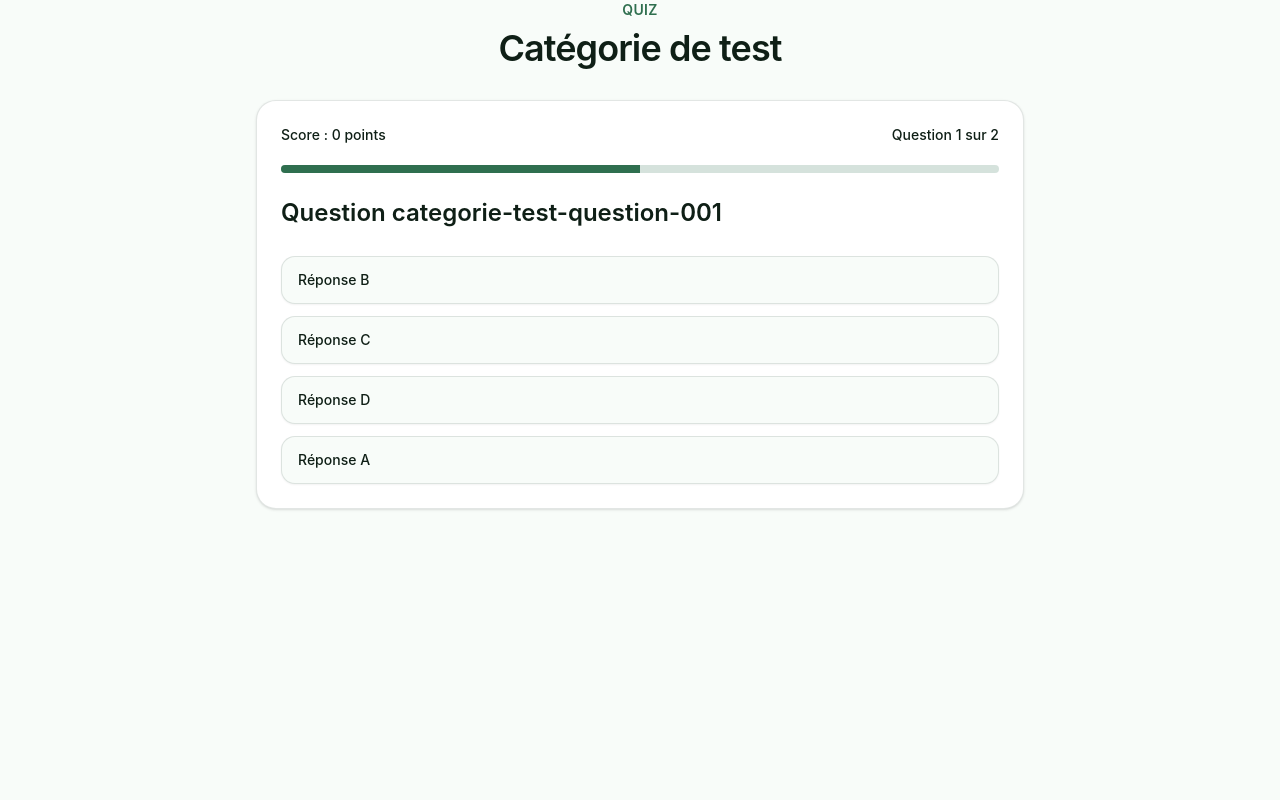
Test: QuizRunner › augmente le score, verrouille les réponses et affiche la correction après une bonne réponse
The image size is (1280, 800).
Check: the heading "Catégorie de test" is shown, box left=498, top=26, right=782, bottom=70
Click the button "Réponse B".
click(334, 280)  # box left=281, top=256, right=999, bottom=304
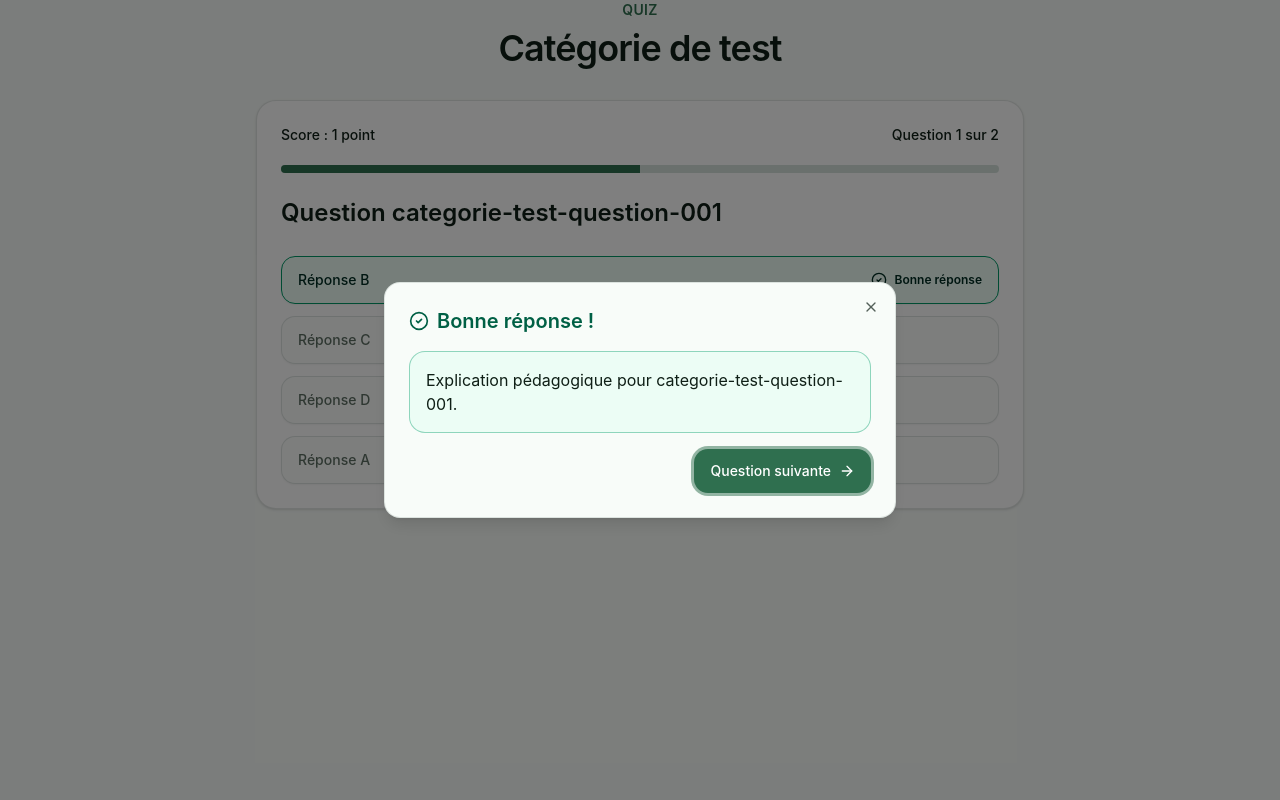
Check: the text "Score : 1 point" is shown, box left=281, top=125, right=375, bottom=145
Check: the heading "Bonne réponse !" is shown, box left=409, top=309, right=594, bottom=333
Check: the button "Réponse B Bonne réponse" is disabled, box left=281, top=256, right=999, bottom=304
